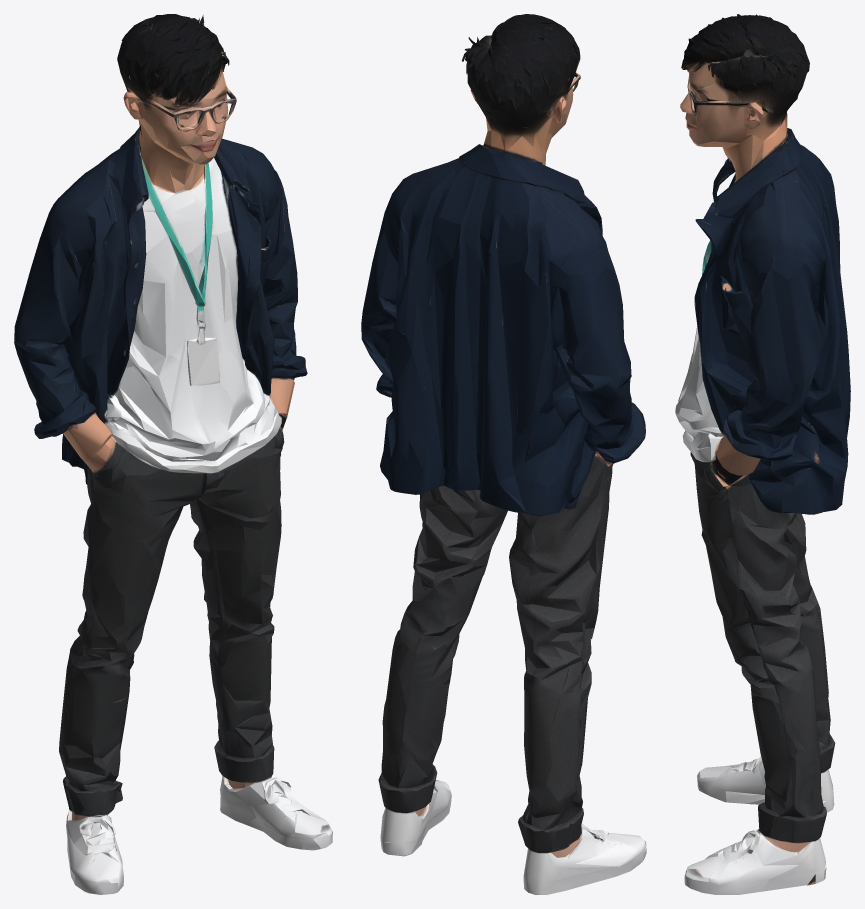
Rendered from miki.glb.
The picture shows the model from 3 angles, left to right: view 1: azimuth 30°, elevation 25°; view 2: azimuth 150°, elevation 25°; view 3: azimuth 270°, elevation 25°; orthographic projection. The views are drawn at different scales.
Parts seen in each view (by area): view 1: output_unwrapped; view 2: output_unwrapped; view 3: output_unwrapped.
Boxes of the visible parts, x1,y1,x2,y2 form: output_unwrapped: (14, 14, 332, 894); output_unwrapped: (361, 14, 646, 894); output_unwrapped: (675, 14, 850, 894).
Bounding box in the file's own units: 0.6372 × 1.9 × 0.3723.
Materials: 1 (1 with a texture image).
